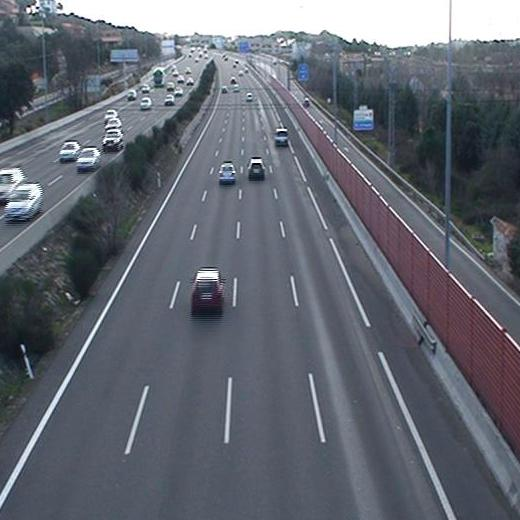car: (187, 265, 229, 322), (244, 154, 268, 184), (215, 159, 239, 186), (273, 127, 290, 148)
